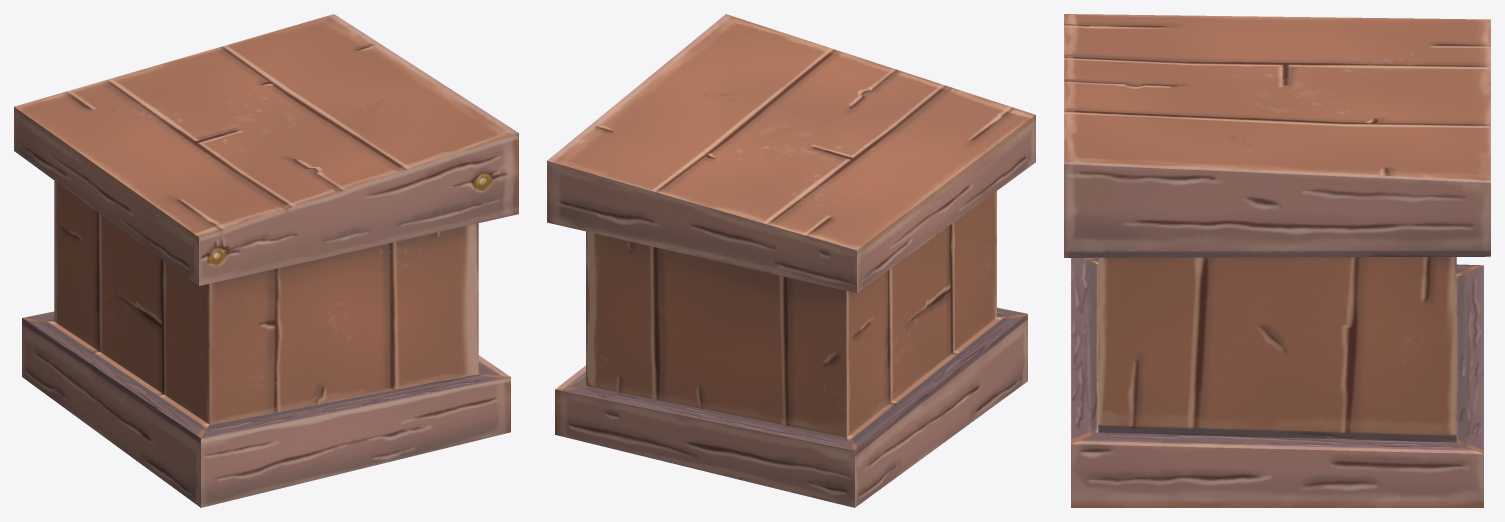
Rendered from SingleBox.fbx.
3 views of the same model, side by side, from view 1: azimuth 30°, elevation 25°; view 2: azimuth 150°, elevation 25°; view 3: azimuth 270°, elevation 25° (orthographic). The views are drawn at different scales.
Parts seen in each view (by area): view 1: box_fchd:pCube1; view 2: box_fchd:pCube1; view 3: box_fchd:pCube1.
Part boxes in pixels (<box>): box_fchd:pCube1: <box>14,14,518,507</box>; box_fchd:pCube1: <box>547,14,1035,507</box>; box_fchd:pCube1: <box>1064,14,1490,507</box>.
Bounding box in the file's own units: 199 × 179 × 199.
Materials: 1 (1 with a texture image).
